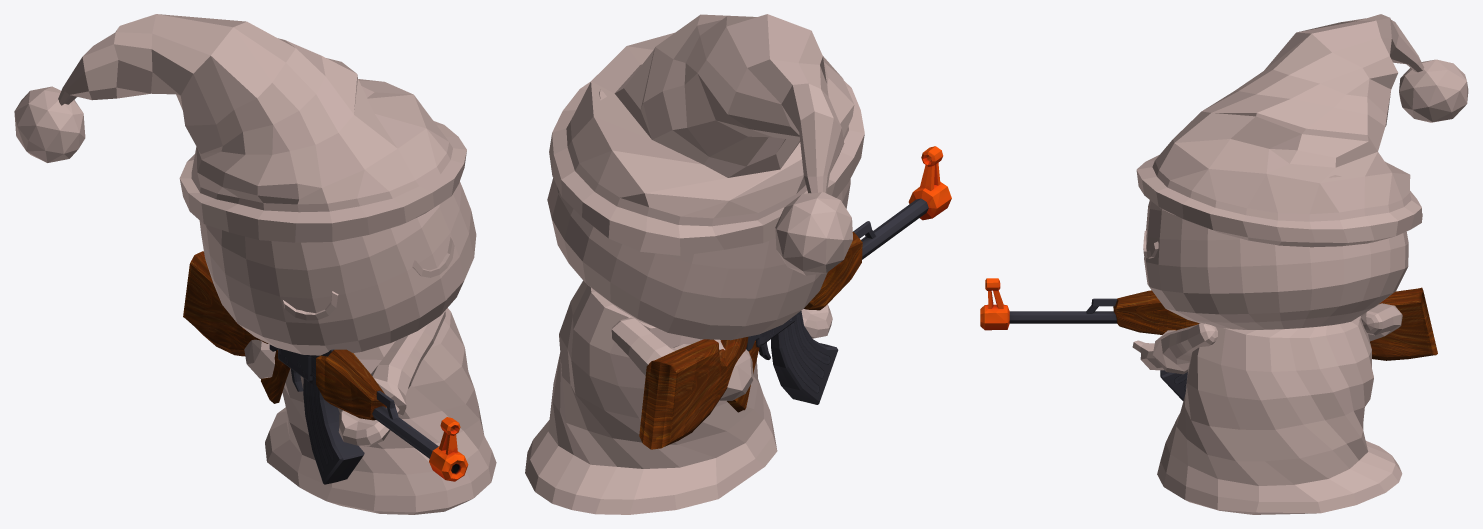
File: Player.glb
3 views of the same model, side by side, from view 1: azimuth 30°, elevation 25°; view 2: azimuth 150°, elevation 25°; view 3: azimuth 270°, elevation 25° (orthographic). The views are drawn at different scales.
Parts seen in each view (by area): view 1: Player; view 2: Player; view 3: Player.
Boxes of the visible parts, left/top/right/bottom form: Player: left=14, top=14, right=496, bottom=514; Player: left=525, top=14, right=951, bottom=514; Player: left=980, top=14, right=1468, bottom=514.
Bounding box in the file's own units: 1.11 × 1.33 × 1.49.
Materials: 2 (2 with a texture image).
